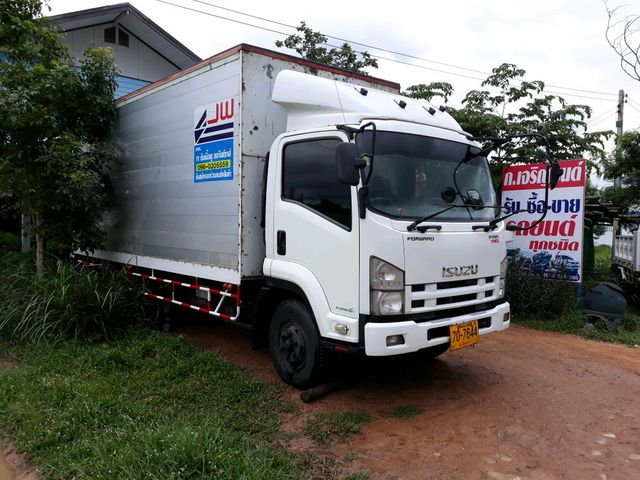truck: (132, 43, 510, 387)
